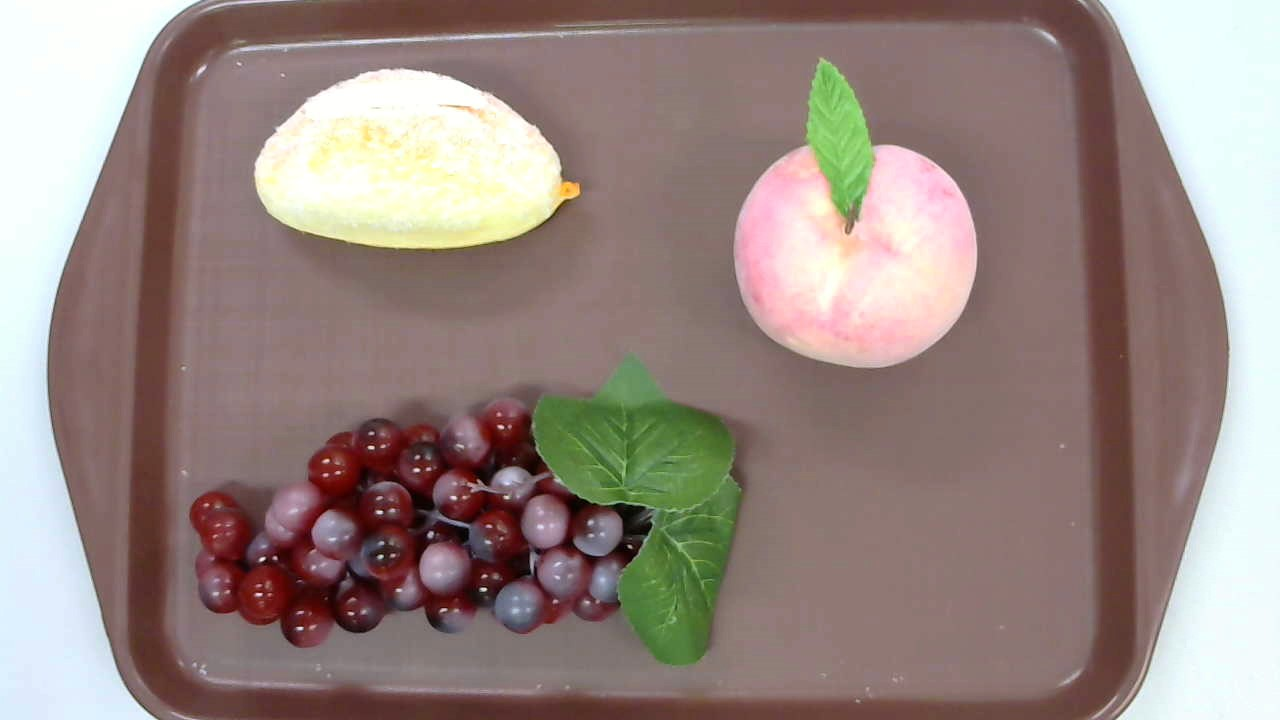coconut: (253, 67, 581, 250)
grape: (190, 351, 741, 665)
peach: (732, 59, 978, 369)
